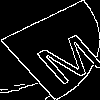M: (25, 25, 100, 87)
